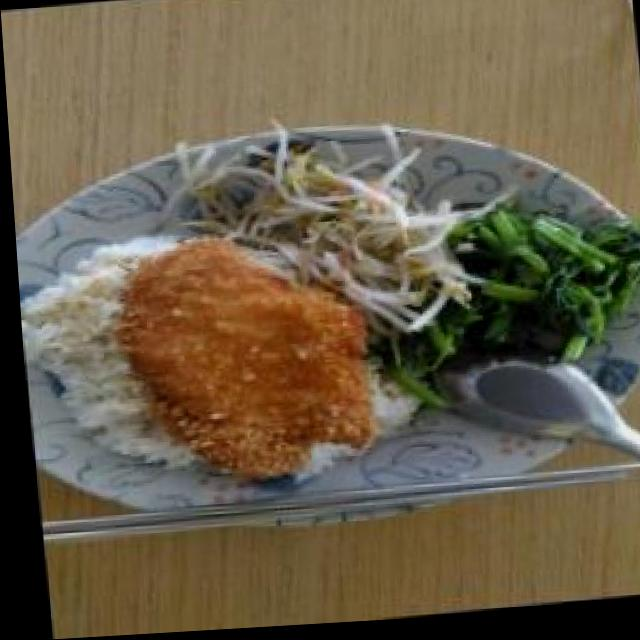fried_chicken: (127, 269, 364, 448)
mung_bean_sprouts: (251, 183, 446, 287)
rice: (34, 263, 134, 402)
water_spinach: (462, 206, 633, 369)
